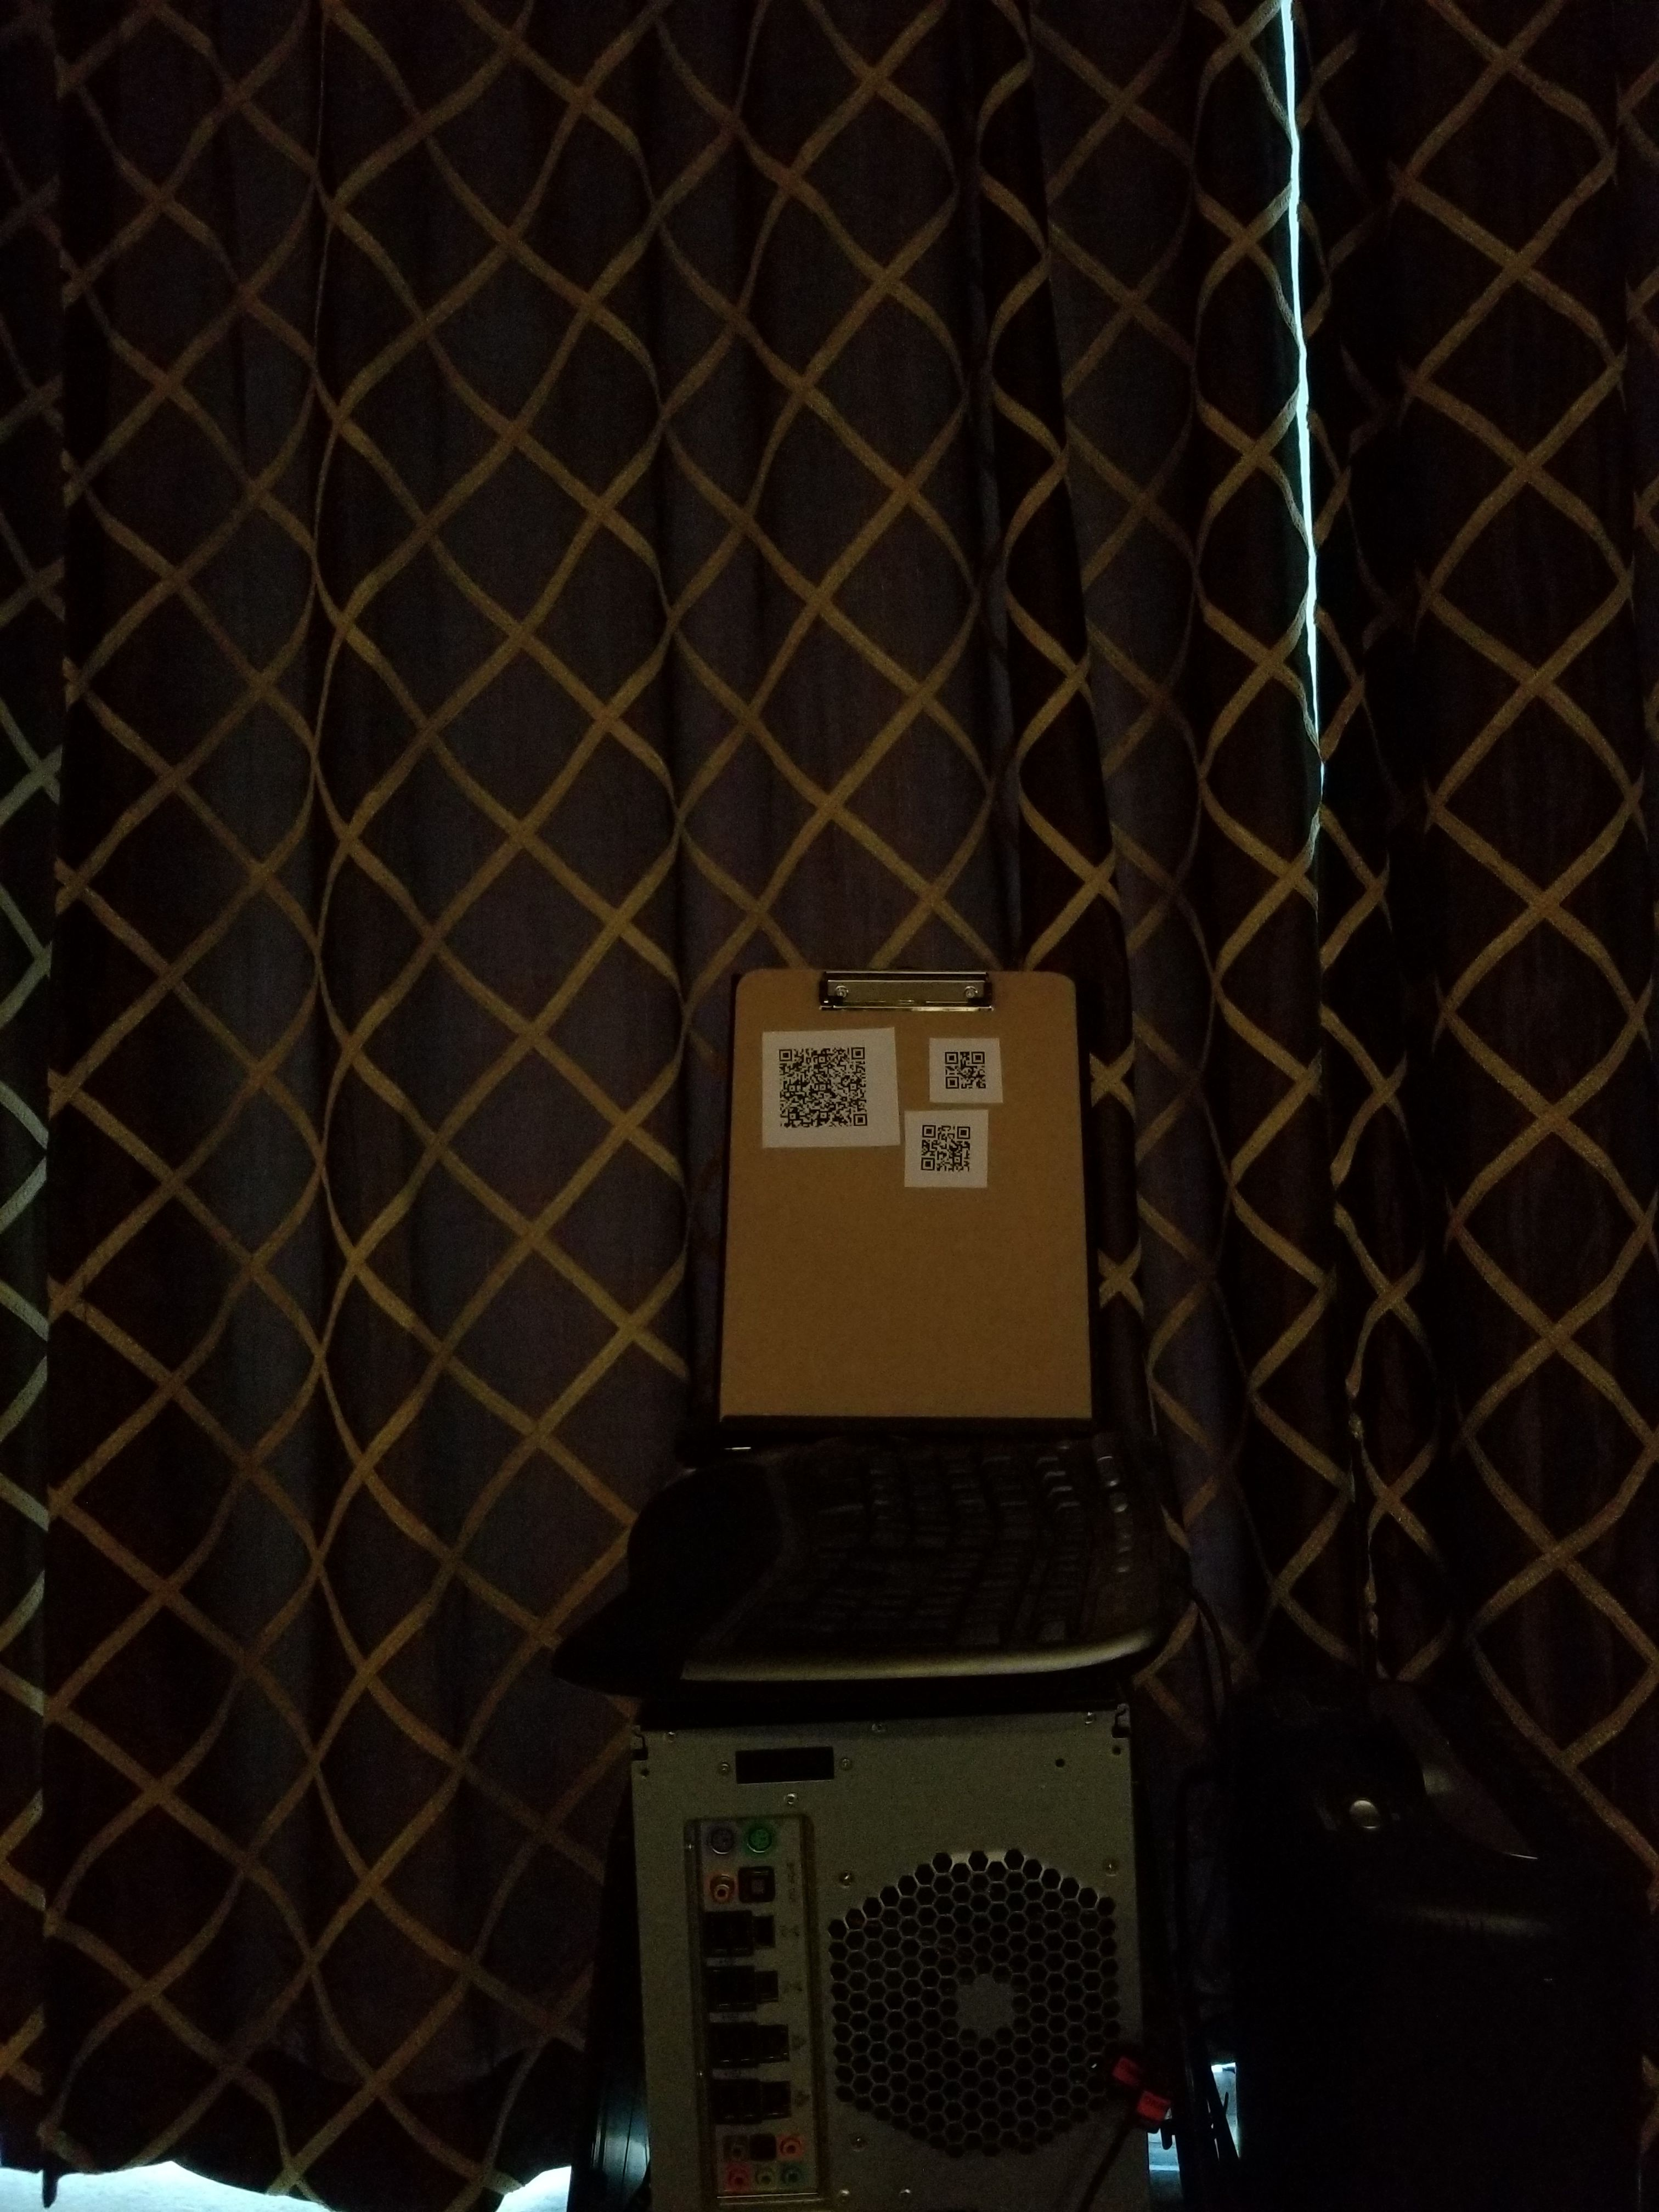QR_CODE: (765, 1028, 878, 1144), (908, 1116, 1004, 1195), (934, 1033, 1002, 1101)
